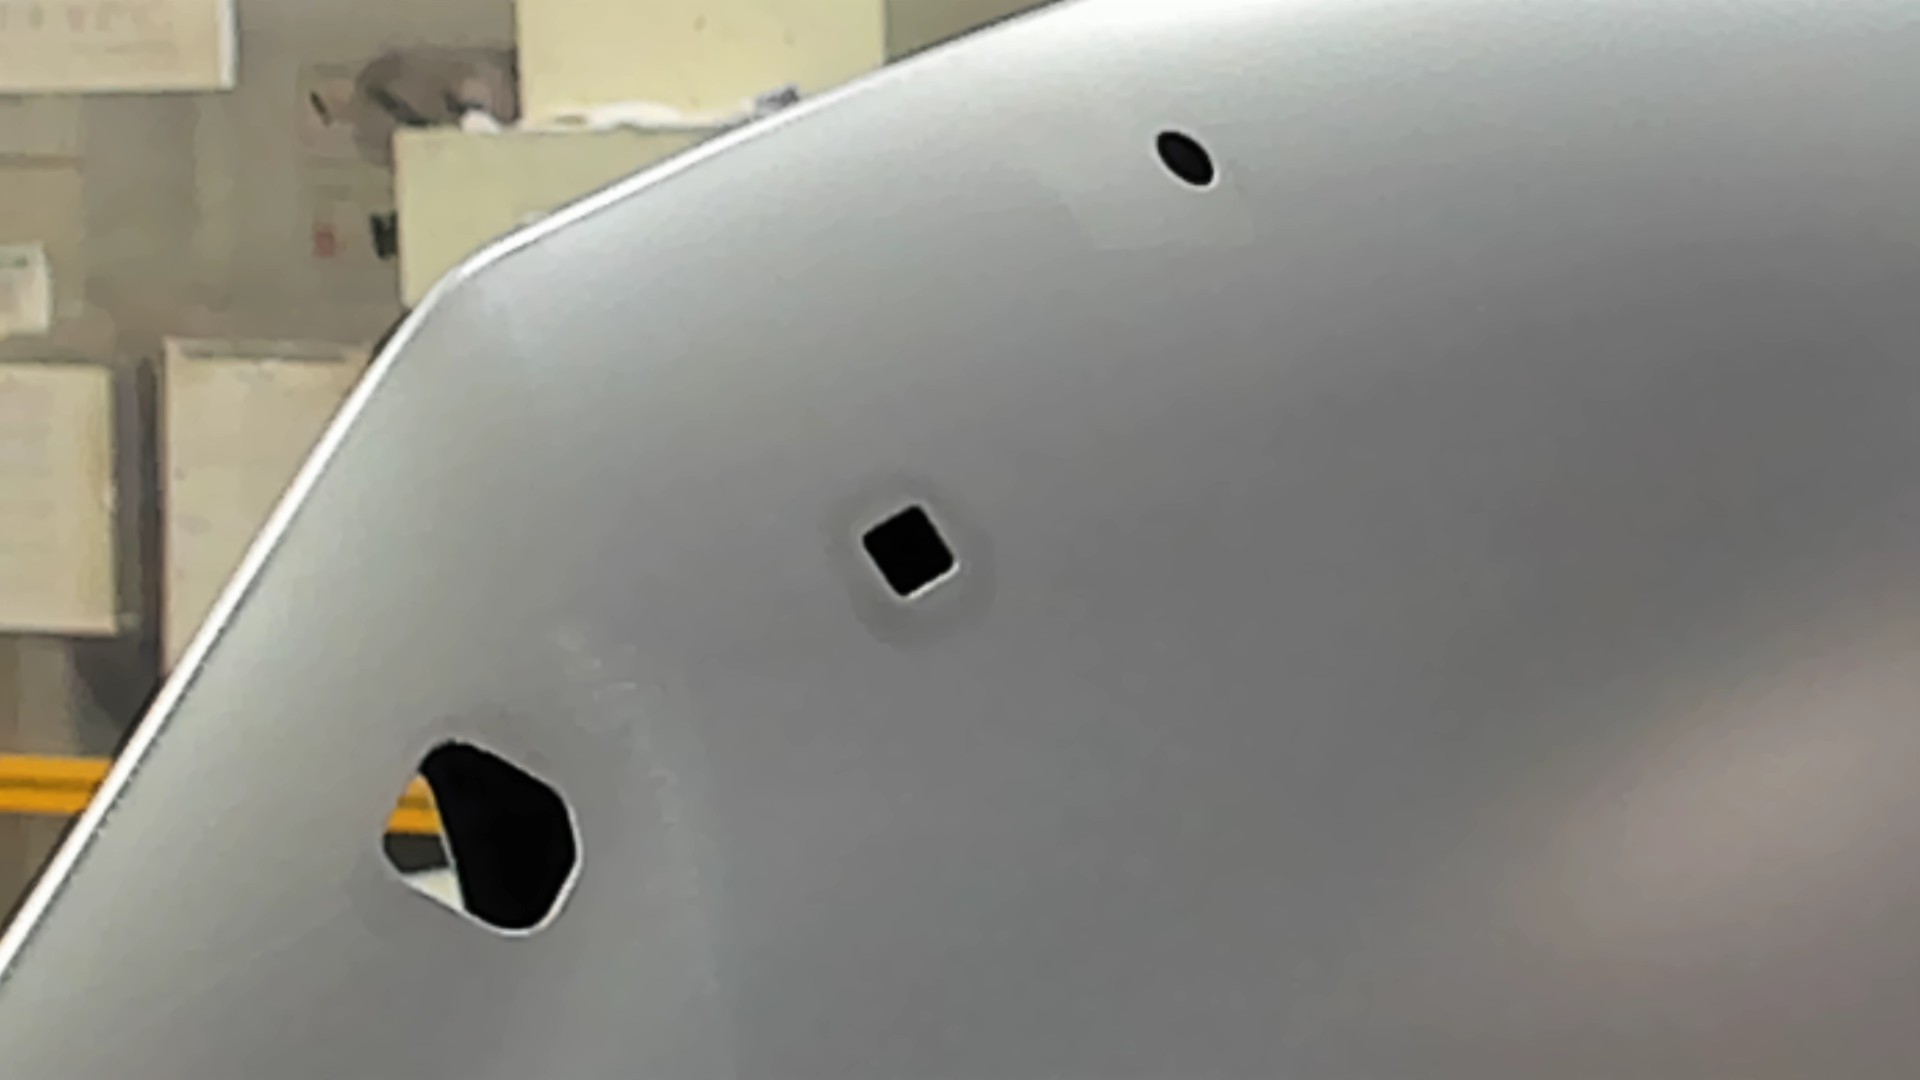chico: (1153, 127, 1218, 190)
grande: (378, 736, 589, 940)
mediano: (856, 498, 961, 607)
